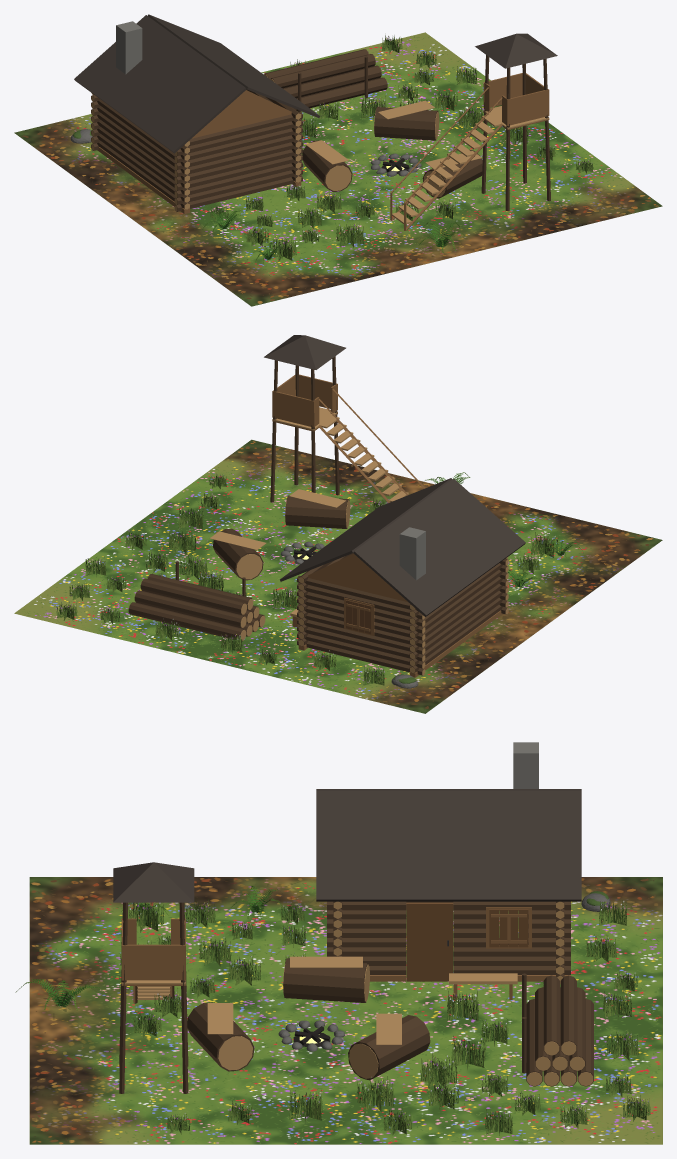
File: les_paseka_srub.glb
3 views of the same model, one above another, from view 1: azimuth 30°, elevation 25°; view 2: azimuth 150°, elevation 25°; view 3: azimuth 270°, elevation 25° (orthographic). The views are drawn at different scales.
Parts seen in each view (by area): view 1: zem, srub, posed, ohniste, klady, podlaha, kapradi_01, trava_22, trava_17; view 2: zem, srub, posed, klady, ohniste, podlaha, okno_01; view 3: zem, srub, ohniste, posed, klady, dvere_00, okno_00, trava_25, trava_20, trava_21, trava_11, kapradi_01 (+8 smaller).
Part boxes in pixels (<box>): zem: <box>14,32,662,306</box>; srub: <box>74,14,319,213</box>; posed: <box>390,33,557,230</box>; ohniste: <box>302,100,482,198</box>; klady: <box>264,49,387,112</box>; podlaha: <box>391,106,549,223</box>; kapradi_01: <box>418,222,467,252</box>; trava_22: <box>336,221,364,247</box>; trava_17: <box>269,236,296,261</box>; zem: <box>14,439,662,713</box>; srub: <box>280,478,525,677</box>; posed: <box>264,335,425,502</box>; klady: <box>128,561,265,641</box>; ohniste: <box>210,489,350,580</box>; podlaha: <box>272,407,408,501</box>; okno_01: <box>346,600,371,634</box>; zem: <box>29,877,662,1144</box>; srub: <box>316,742,581,999</box>; ohniste: <box>187,956,430,1080</box>; posed: <box>113,862,194,1093</box>; klady: <box>522,973,593,1086</box>; dvere_00: <box>406,903,452,981</box>; okno_00: <box>489,909,528,947</box>; trava_25: <box>357,1076,394,1111</box>; trava_20: <box>420,1052,457,1088</box>; trava_21: <box>451,1035,485,1069</box>; trava_11: <box>289,1090,322,1123</box>; kapradi_01: <box>15,979,109,1010</box>.
Size of the model in its own units: 14.8 by 5.64 by 15.17.
Materials: 5 (4 with a texture image).
